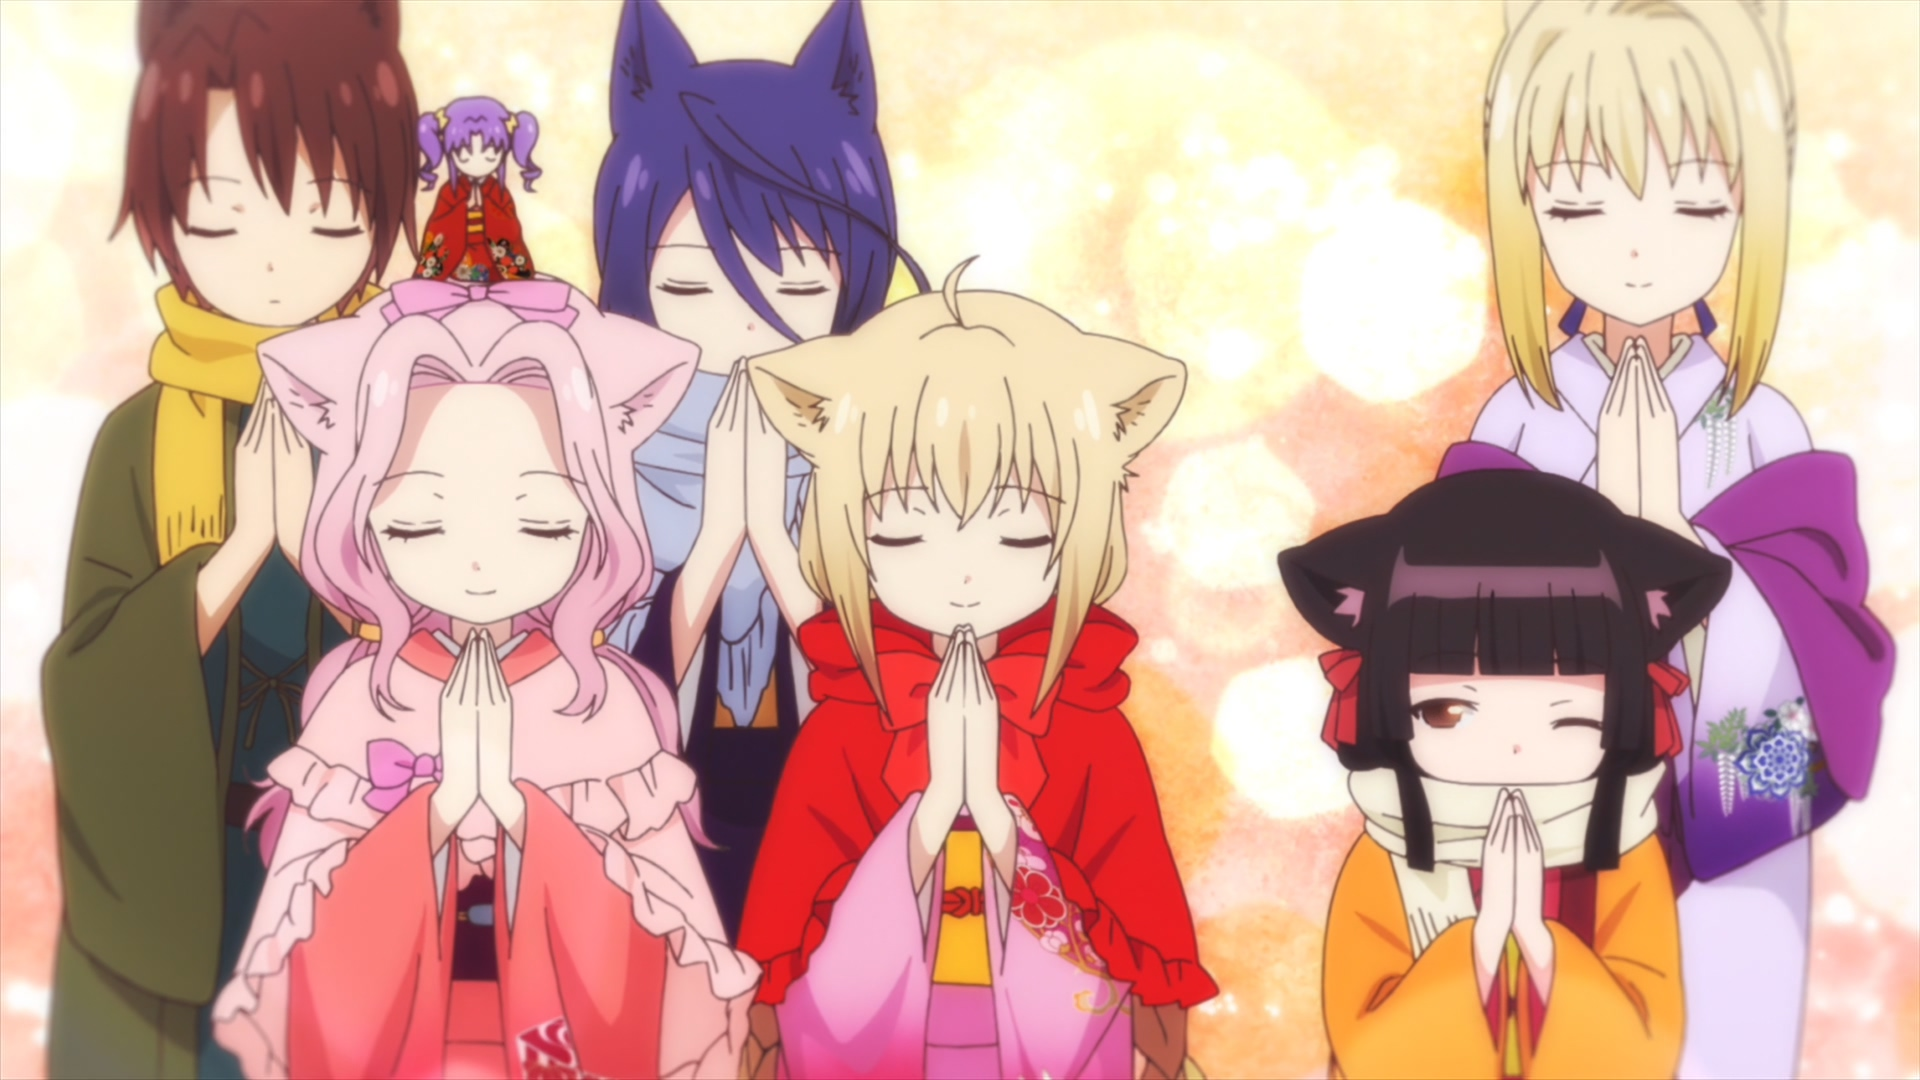枣: (38, 1, 419, 1080)
柚: (737, 257, 1220, 1080)
桐: (1437, 1, 1898, 1080)
樱: (1279, 467, 1733, 1080)
皋: (593, 1, 928, 948)
莲: (214, 278, 760, 1080)
阿菊: (411, 98, 545, 286)
